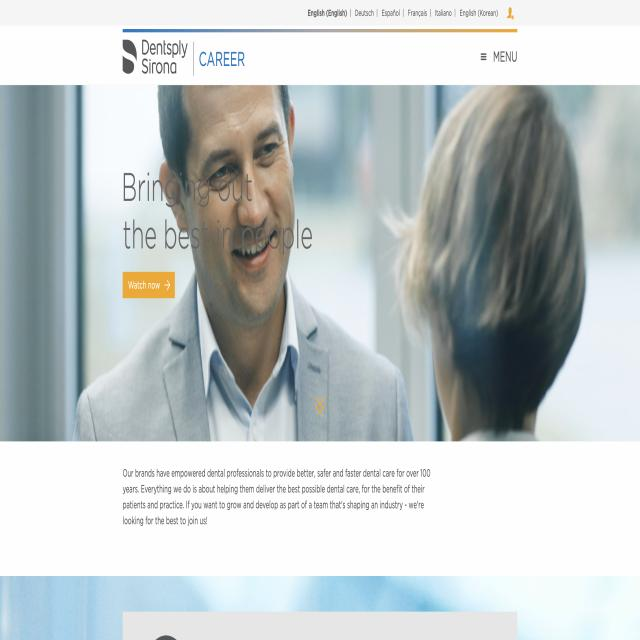Logo: (120, 22, 197, 89)
